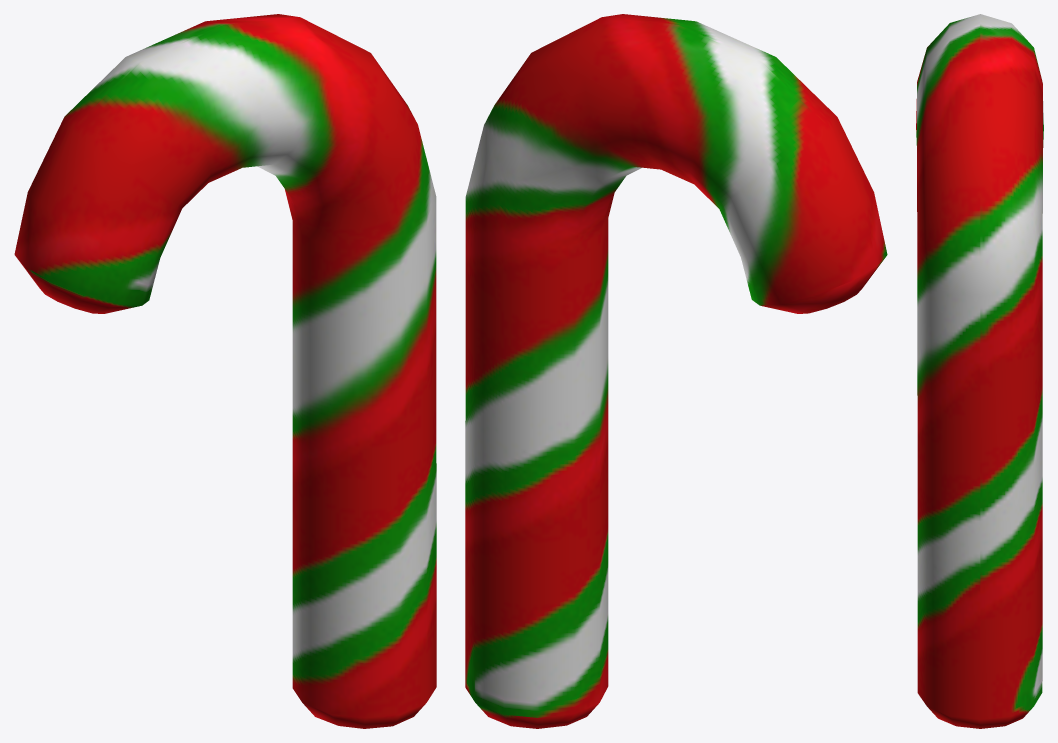
Rendered from candy_cane.fbx.
3 renders of one model, left to right at view 1: azimuth 30°, elevation 25°; view 2: azimuth 150°, elevation 25°; view 3: azimuth 270°, elevation 25°, orthographic. The views are drawn at different scales.
Visible parts, largest first — view 1: Candy_Cane; view 2: Candy_Cane; view 3: Candy_Cane.
Part boxes in pixels (bbox=[...]): Candy_Cane: bbox=[14, 14, 436, 728]; Candy_Cane: bbox=[465, 14, 887, 728]; Candy_Cane: bbox=[916, 14, 1043, 728].
Bounding box in the file's own units: 10.57 × 18.18 × 3.39.
